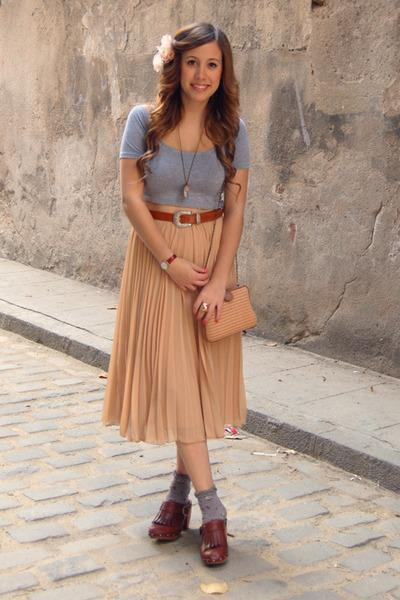bag: (206, 289, 256, 341)
shirt: (120, 112, 267, 217)
shoe: (149, 502, 227, 569)
skirt: (88, 222, 247, 515)
